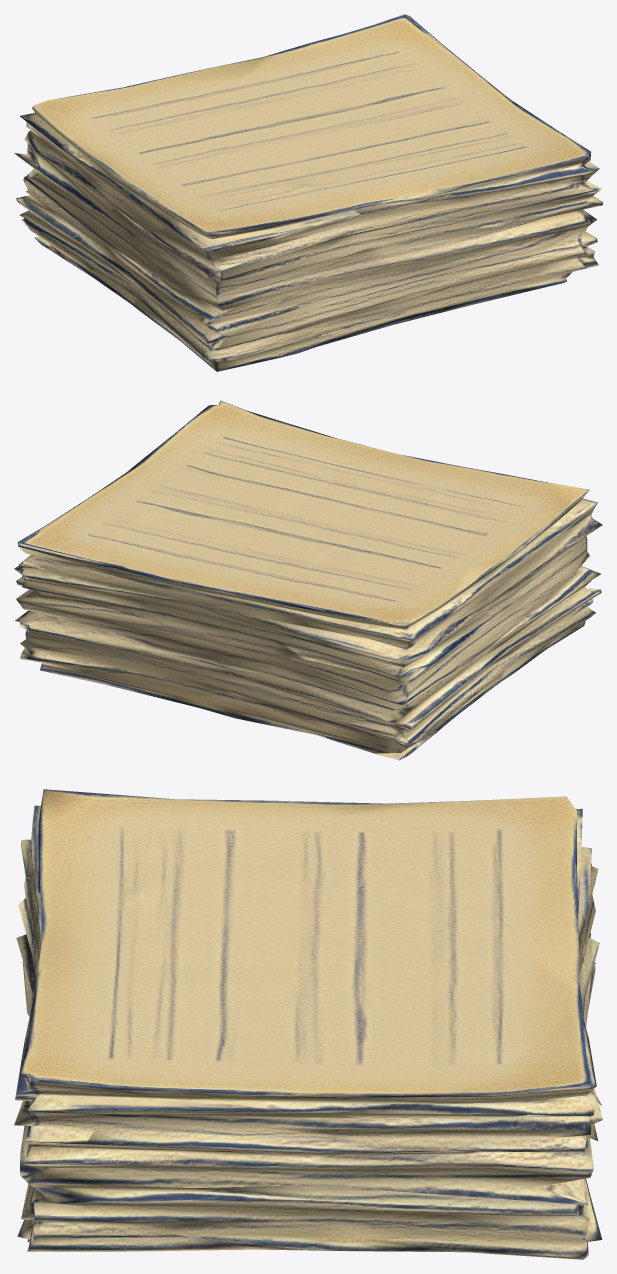
The model's file is DeskPapers.fbx.
The picture shows the model from 3 angles, top to bottom: view 1: azimuth 30°, elevation 25°; view 2: azimuth 150°, elevation 25°; view 3: azimuth 270°, elevation 25°; orthographic projection. The views are drawn at different scales.
Parts seen in each view (by area): view 1: tripo_node_bd7cf799-fabf-4da3-8e39-0b6813367e1d; view 2: tripo_node_bd7cf799-fabf-4da3-8e39-0b6813367e1d; view 3: tripo_node_bd7cf799-fabf-4da3-8e39-0b6813367e1d.
Part boxes in pixels (bbox=[...]): tripo_node_bd7cf799-fabf-4da3-8e39-0b6813367e1d: bbox=[14, 14, 602, 371]; tripo_node_bd7cf799-fabf-4da3-8e39-0b6813367e1d: bbox=[14, 400, 602, 760]; tripo_node_bd7cf799-fabf-4da3-8e39-0b6813367e1d: bbox=[14, 789, 602, 1259].
Size of the model in its own units: 100 by 34 by 86.55.
Materials: 1 (1 with a texture image).
